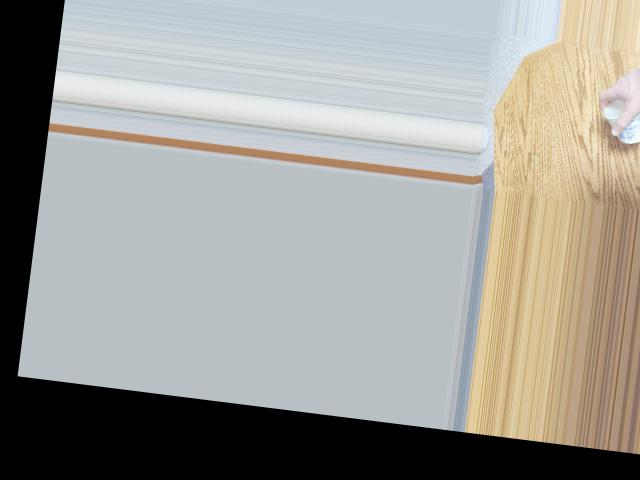cotage: (600, 93, 640, 143)
